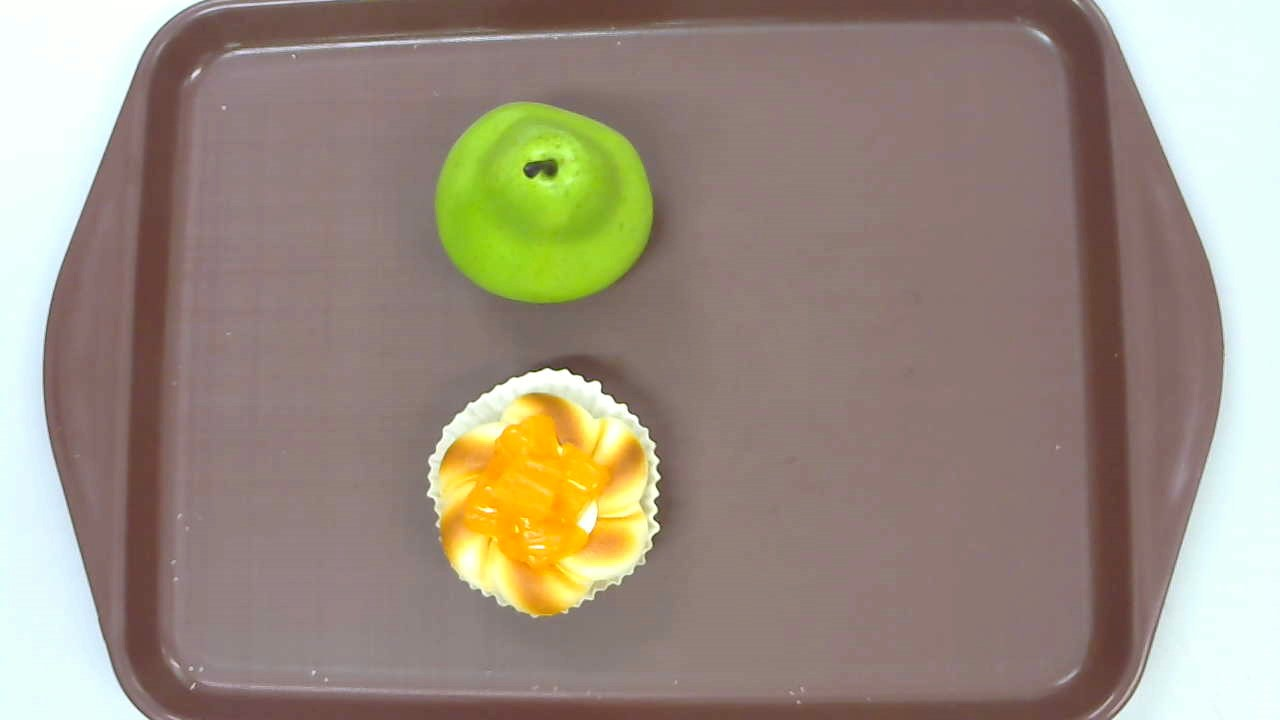green pear: (434, 101, 654, 303)
mango tart: (425, 366, 661, 617)
